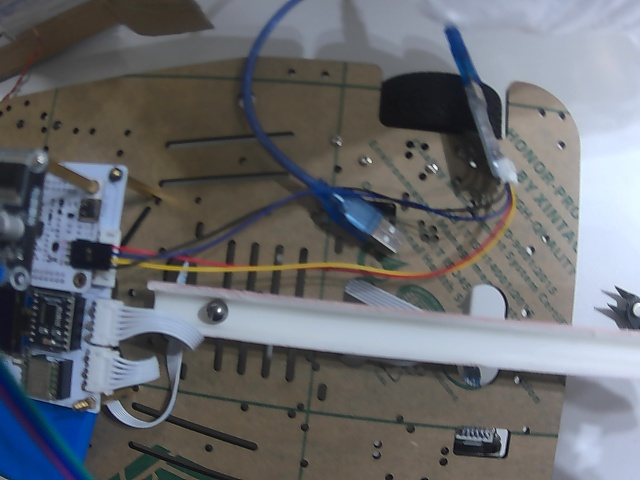steelball: (205, 300, 228, 321)
